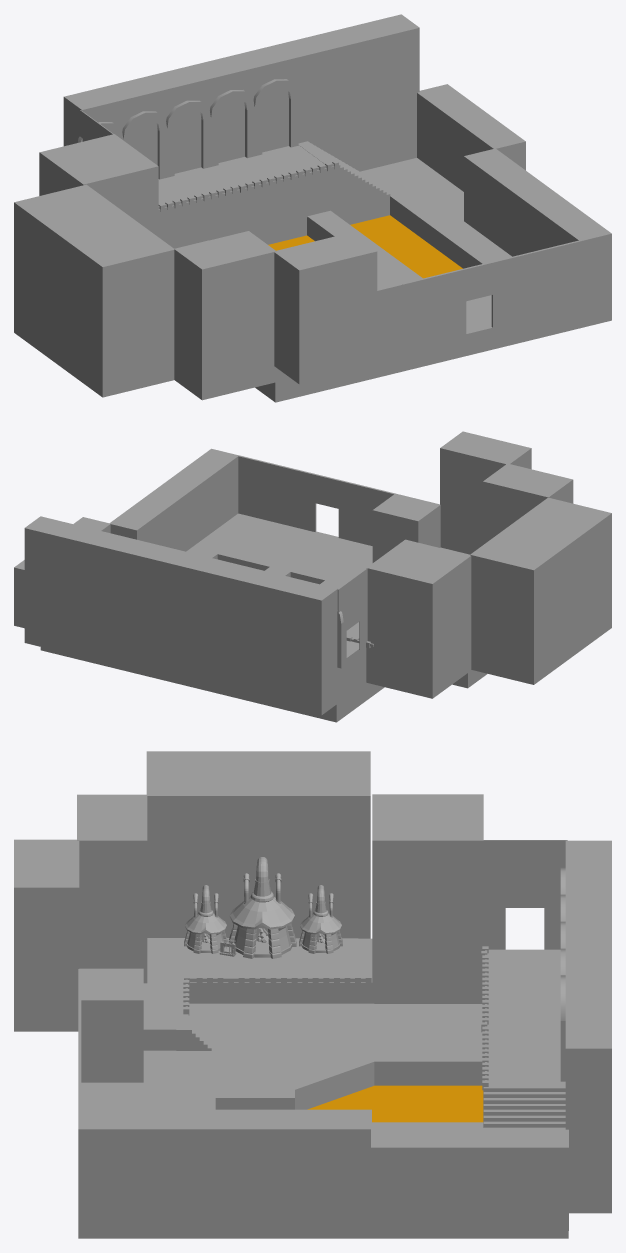
Rendered from Forge_Blockout.fbx.
The picture shows the model from 3 angles, top to bottom: view 1: azimuth 30°, elevation 25°; view 2: azimuth 150°, elevation 25°; view 3: azimuth 270°, elevation 25°; orthographic projection. The views are drawn at different scales.
Visible parts, largest first — view 1: Furnace_Asset_0015:pCylinder13; view 2: Furnace_Asset_0015:pCylinder13; view 3: Furnace_Asset_0015:pCylinder13.
Boxes of the visible parts, x1,y1,x2,y2 form: Furnace_Asset_0015:pCylinder13: (14, 14, 611, 402); Furnace_Asset_0015:pCylinder13: (14, 431, 611, 722); Furnace_Asset_0015:pCylinder13: (14, 751, 611, 1238).
Bounding box in the file's own units: 36.79 × 10.41 × 29.48.
